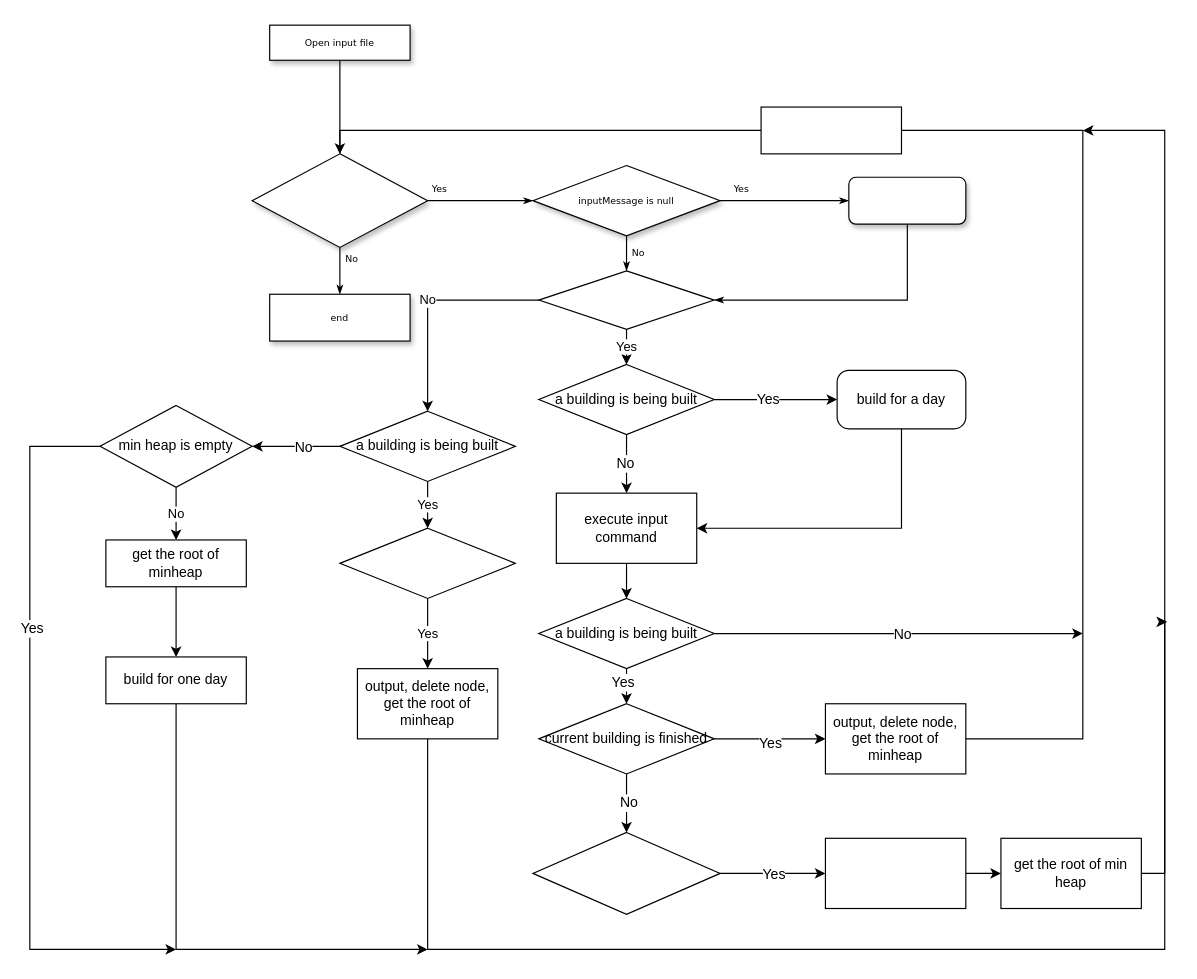
Some shapes in this 1197 by 979 pixel diagram are drawn without their labels. The centre of each missing label's shape, as x and y in pixels:
curernt building built for 5 days: (x=626, y=872)
current building will finish today: (x=427, y=562)
globalTime++: (x=830, y=130)
globalTime=inputTime: (x=626, y=299)
input has next line or rbtree is not null: (x=340, y=202)
insert current building into min hep: (x=895, y=873)
read in a line: (x=908, y=201)
